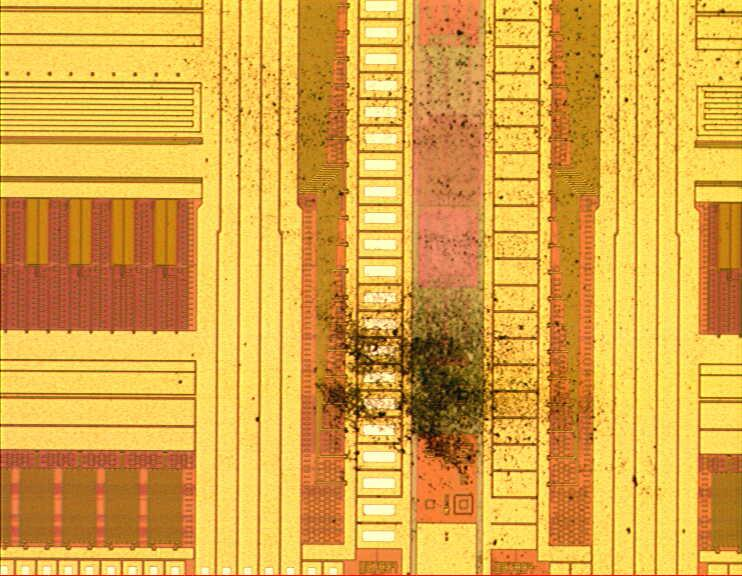PO CONTAMINATION: (168, 1, 742, 508)
